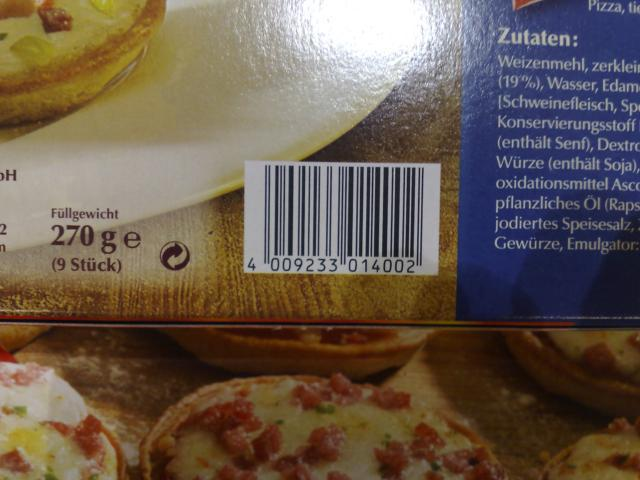Barkod: (260, 165, 423, 256)
